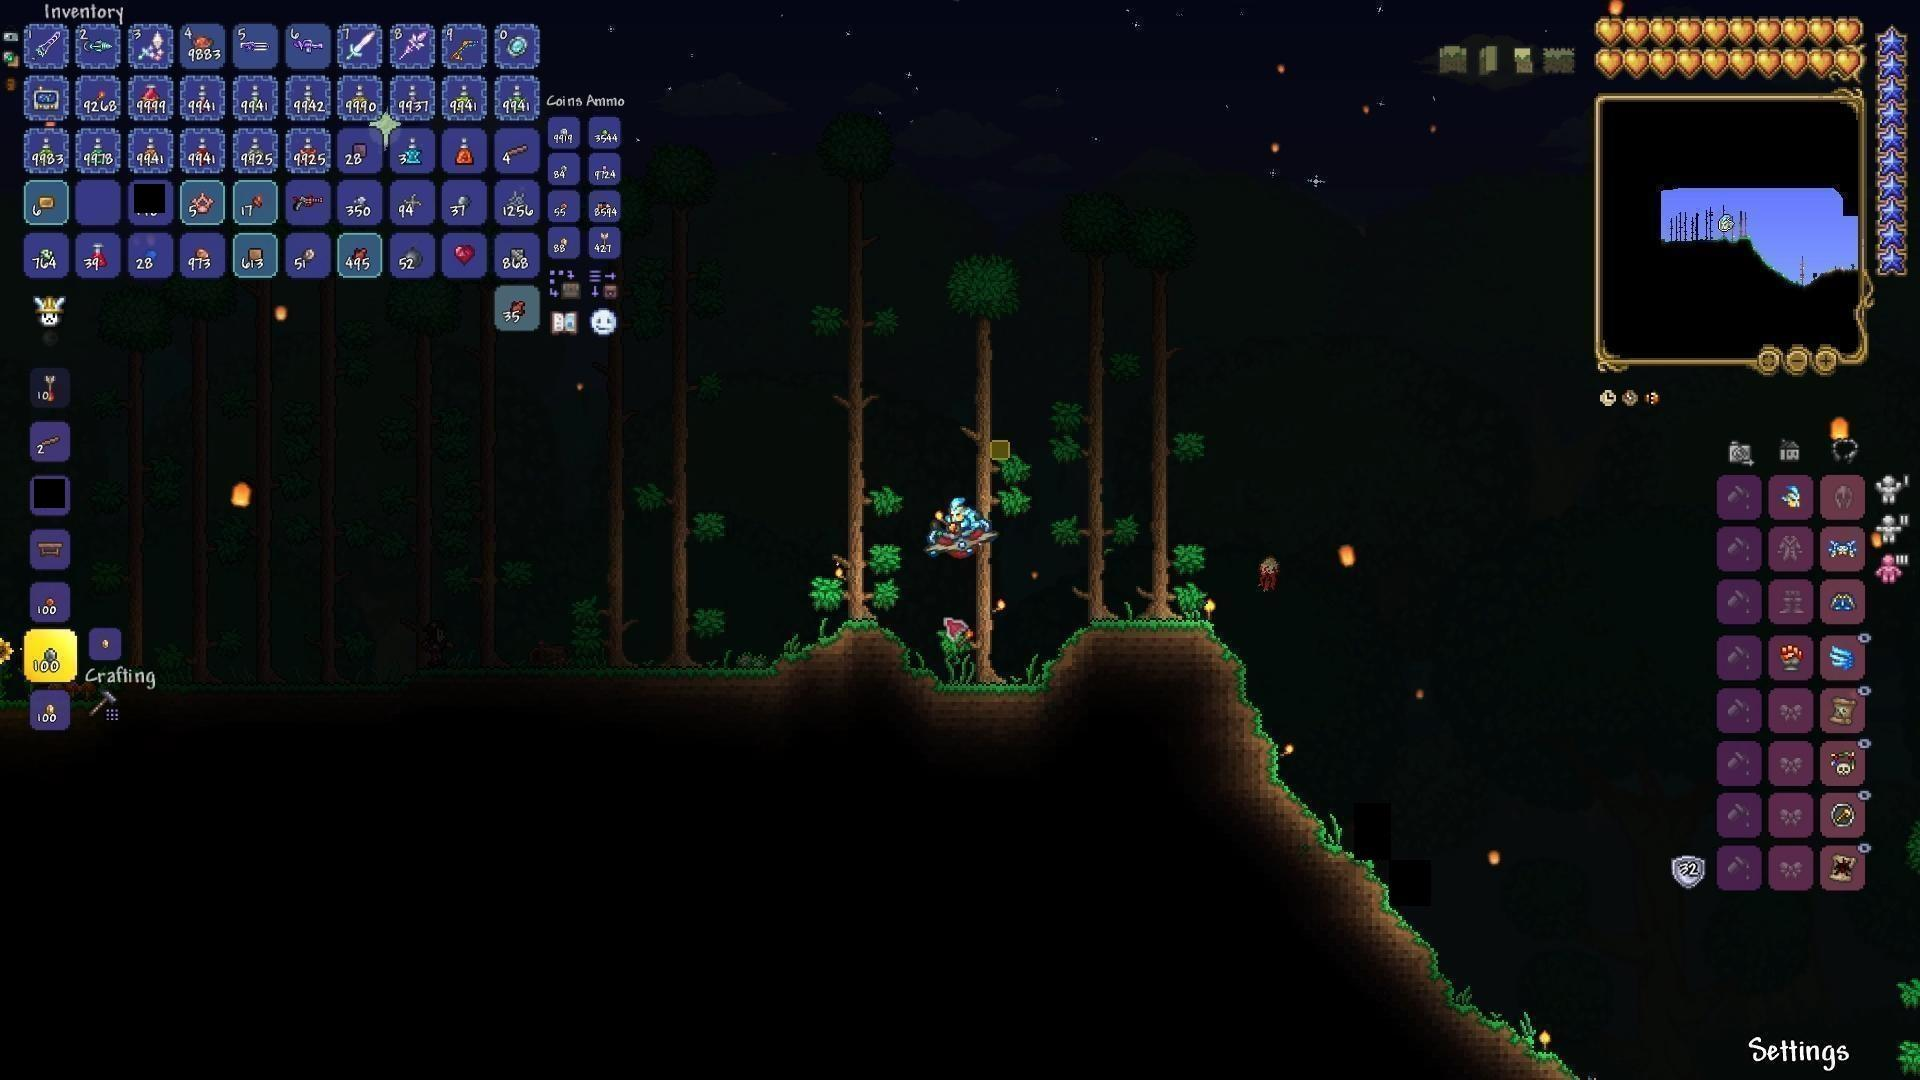workbench: (34, 537, 66, 563)
